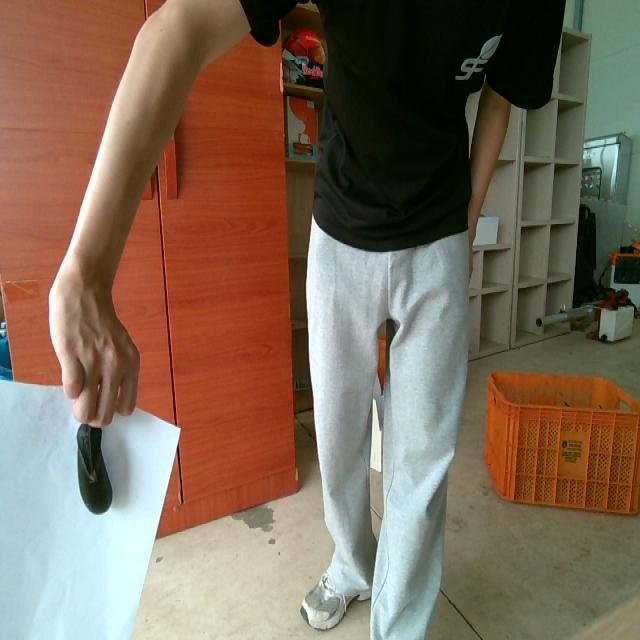Egg plant: (77, 424, 111, 513)
